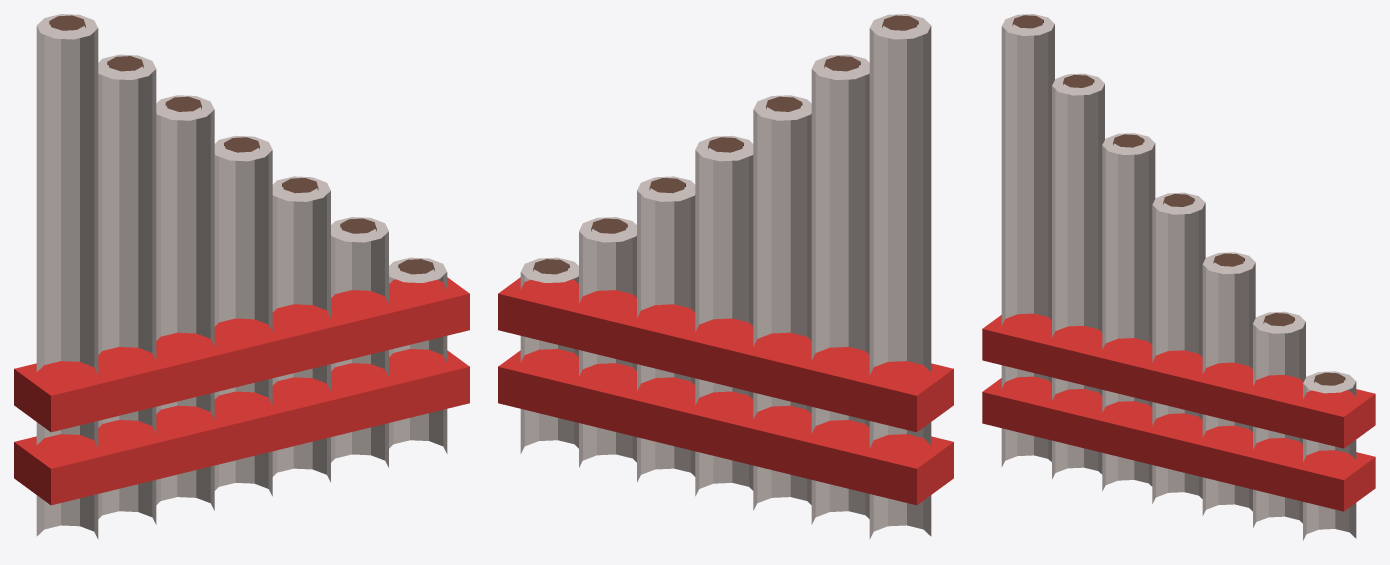
File: panflojt.glb
The picture shows the model from 3 angles, left to right: view 1: azimuth 30°, elevation 25°; view 2: azimuth 150°, elevation 25°; view 3: azimuth 330°, elevation 25°; orthographic projection. The views are drawn at different scales.
Parts seen in each view (by area): view 1: panflojt; view 2: panflojt; view 3: panflojt.
Boxes of the visible parts, x1,y1,x2,y2 form: panflojt: (14, 14, 469, 539); panflojt: (498, 14, 953, 539); panflojt: (982, 14, 1375, 540).
Bounding box in the file's own units: 0.36 × 0.423 × 0.055.
